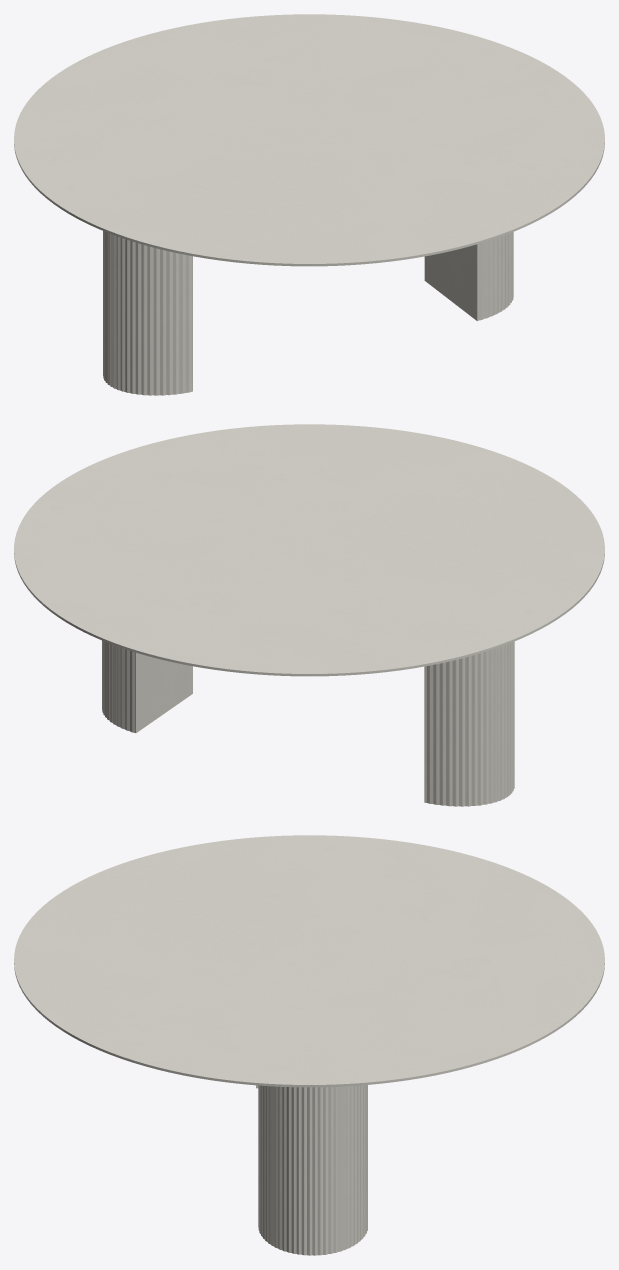
File: pale_round_facet_flute.glb
3 renders of one model, top to bottom at view 1: azimuth 30°, elevation 25°; view 2: azimuth 150°, elevation 25°; view 3: azimuth 270°, elevation 25°, orthographic.
Visible parts, largest first — view 1: facet_round, flute; view 2: facet_round, flute; view 3: facet_round, flute.
Boxes of the visible parts, x1,y1,x2,y2 form: facet_round: [14, 14, 604, 266]; flute: [103, 231, 513, 395]; facet_round: [14, 424, 604, 676]; flute: [102, 640, 514, 806]; facet_round: [14, 835, 604, 1087]; flute: [256, 1085, 367, 1255].
Size of the model in its own units: 6.75 by 2.5 by 6.75.
Materials: 1 (1 with a texture image).
